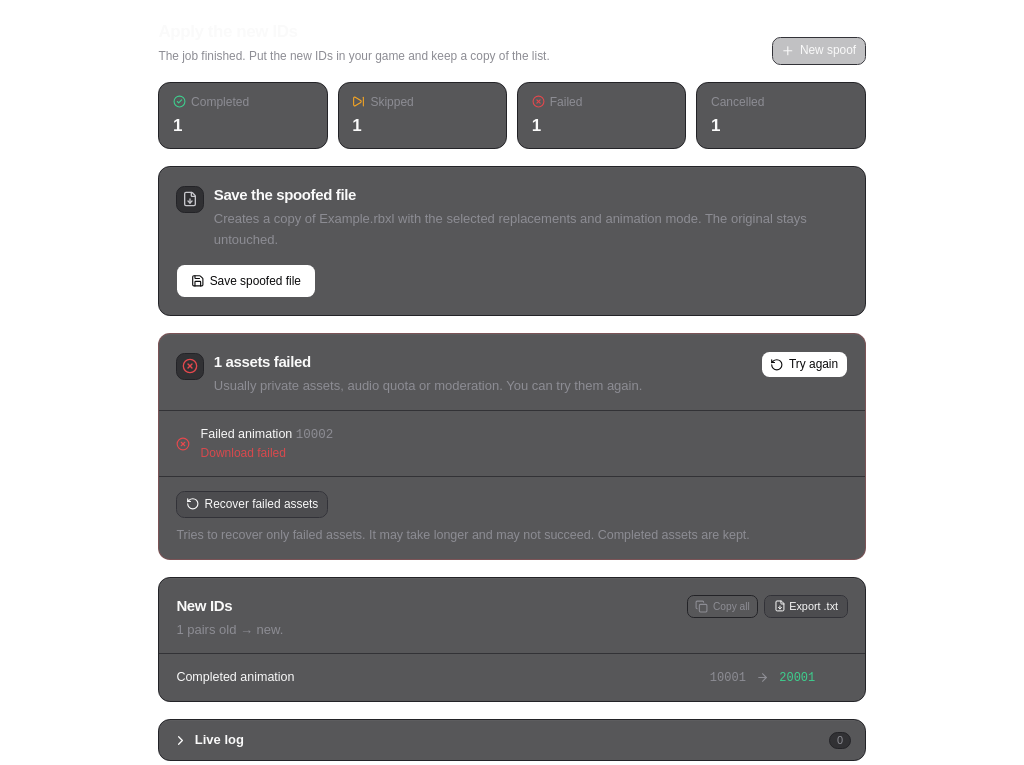
it: final-result failed asset recovery › shows a failed launch without discarding successful mappings or retrying automatically
Click the button "Recover failed assets" at (252, 504), box top-left (176, 491), bottom-right (328, 518)
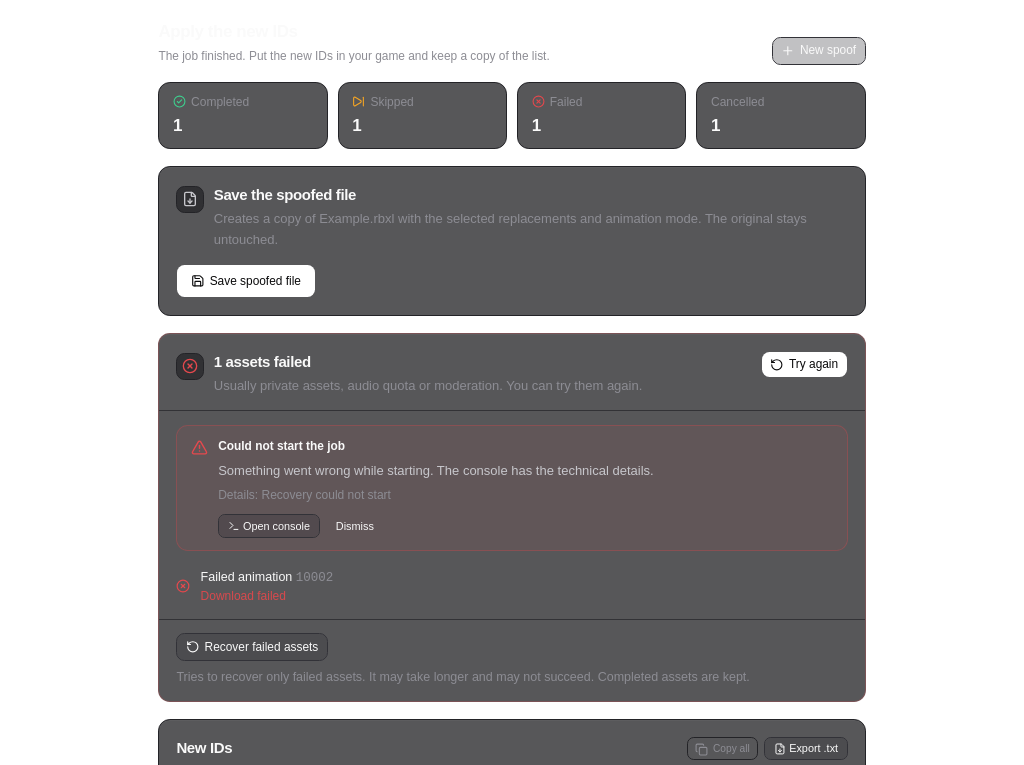
expect the button "Recover failed assets" is enabled: met, box top-left (176, 634), bottom-right (328, 661)
expect the message shows "Recovery could not start": met, box top-left (262, 488), bottom-right (391, 502)
